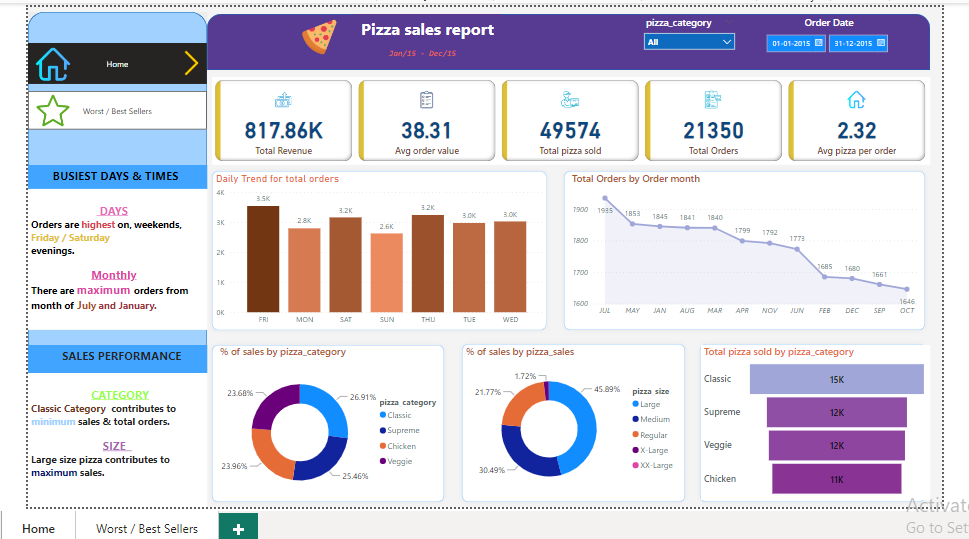

This screenshot's page, from the dashboard's own definition file:
{"tool":"powerbi","page":{"name":"Home","canvas":[1500,820],"ordinal":0},"visuals":[{"type":"cardVisual","fields":{"Data":["Measure.Total Revenue","Measure.Avg order value","Measure.Total pizza sold","Measure.Total Orders","Measure.Avg pizza per order"]},"box":[302.5,115,1177.5,143.8],"z":0},{"type":"shape","box":[293.6,11.5,1185.7,91.8],"z":1000},{"type":"textbox","box":[534.6,11.5,241.1,49.2],"z":2000},{"type":"textbox","box":[563.8,60,165,33.8],"z":3000},{"type":"shape","box":[293.8,261.2,565,277.5],"z":4000},{"type":"columnChart","title":"Daily Trend for total orders","fields":{"Category":["pizza_sales.Order Day"],"Y":["Measure.Total Orders"]},"box":[302.9,270,547.1,260],"z":5000},{"type":"shape","box":[870.8,260.8,608.4,277.2],"z":6000},{"type":"areaChart","title":"Total Orders by Order month","fields":{"Category":["pizza_sales.Month Day"],"Y":["Measure.Total Orders"]},"box":[887.2,270.6,577.3,246],"z":7000},{"type":"shape","box":[293.6,546.1,396.9,273.9],"z":8000},{"type":"donutChart","title":"% of sales by pizza_category","fields":{"Category":["pizza_sales.pizza_category"],"Y":["Measure.Total Revenue"]},"box":[310,554.3,380.5,265.7],"z":9000},{"type":"shape","box":[0,8.2,293.6,811.8],"z":10000},{"type":"shape","box":[703.6,544.5,382.1,275.5],"z":11000},{"type":"shape","box":[1093.9,544.5,385.4,275.5],"z":12000},{"type":"donutChart","title":"% of sales by pizza_sales","fields":{"Category":["pizza_sales.pizza_size"],"Y":["Measure.Total Revenue"]},"box":[713.4,554.3,362.4,254.2],"z":13000},{"type":"textbox","box":[0,259.1,293.6,39.4],"z":14000},{"type":"funnel","fields":{"Category":["pizza_sales.pizza_category"],"Y":["Measure.Total pizza sold"]},"box":[1103.7,554.3,375.6,254.2],"z":15000},{"type":"textbox","box":[0,298.5,293.6,231.2],"z":16000},{"type":"textbox","box":[0,554.3,293.6,45.9],"z":17000},{"type":"textbox","box":[0,600.2,293.6,219.8],"z":18000},{"type":"pageNavigator","box":[0,59,293.6,67.2],"z":19000},{"type":"pageNavigator","box":[0,137.8,293.6,64],"z":20000},{"type":"slicer","fields":{"Values":["pizza_sales.pizza_category"]},"box":[1000.4,9.8,168.9,93.5],"z":21000},{"type":"slicer","title":"Order Date","fields":{"Values":["pizza_sales.order_date"]},"box":[1198.8,14.8,229.6,91.8],"z":22000},{"type":"image","box":[390.3,14.8,173.8,68.9],"z":23000},{"type":"image","box":[242.7,57.4,50.8,68.9],"z":24000},{"type":"image","box":[0,60.7,82,65.6],"z":25000},{"type":"image","box":[0,137.8,82,64],"z":26000}]}

Visuals, with their boxes on the page's 1500x820 design canvas (x1, y1, x2, y2). These are canvas units, not pixel positions in the 969x539 screenshot, which may show the page scaled, cropped or inside an application window:
cardVisual - Measure.Total Revenue x Measure.Avg order value: (302, 115, 1480, 259)
shape: (294, 12, 1479, 103)
textbox: (535, 12, 776, 61)
textbox: (564, 60, 729, 94)
shape: (294, 261, 859, 539)
"Daily Trend for total orders" columnChart: (303, 270, 850, 530)
shape: (871, 261, 1479, 538)
"Total Orders by Order month" areaChart: (887, 271, 1464, 517)
shape: (294, 546, 690, 820)
"% of sales by pizza_category" donutChart: (310, 554, 690, 820)
shape: (0, 8, 294, 820)
shape: (704, 544, 1086, 820)
shape: (1094, 544, 1479, 820)
"% of sales by pizza_sales" donutChart: (713, 554, 1076, 808)
textbox: (0, 259, 294, 298)
funnel - pizza_sales.pizza_category x Measure.Total pizza sold: (1104, 554, 1479, 808)
textbox: (0, 298, 294, 530)
textbox: (0, 554, 294, 600)
textbox: (0, 600, 294, 820)
pageNavigator: (0, 59, 294, 126)
pageNavigator: (0, 138, 294, 202)
slicer - pizza_sales.pizza_category: (1000, 10, 1169, 103)
"Order Date" slicer: (1199, 15, 1428, 107)
image: (390, 15, 564, 84)
image: (243, 57, 294, 126)
image: (0, 61, 82, 126)
image: (0, 138, 82, 202)
